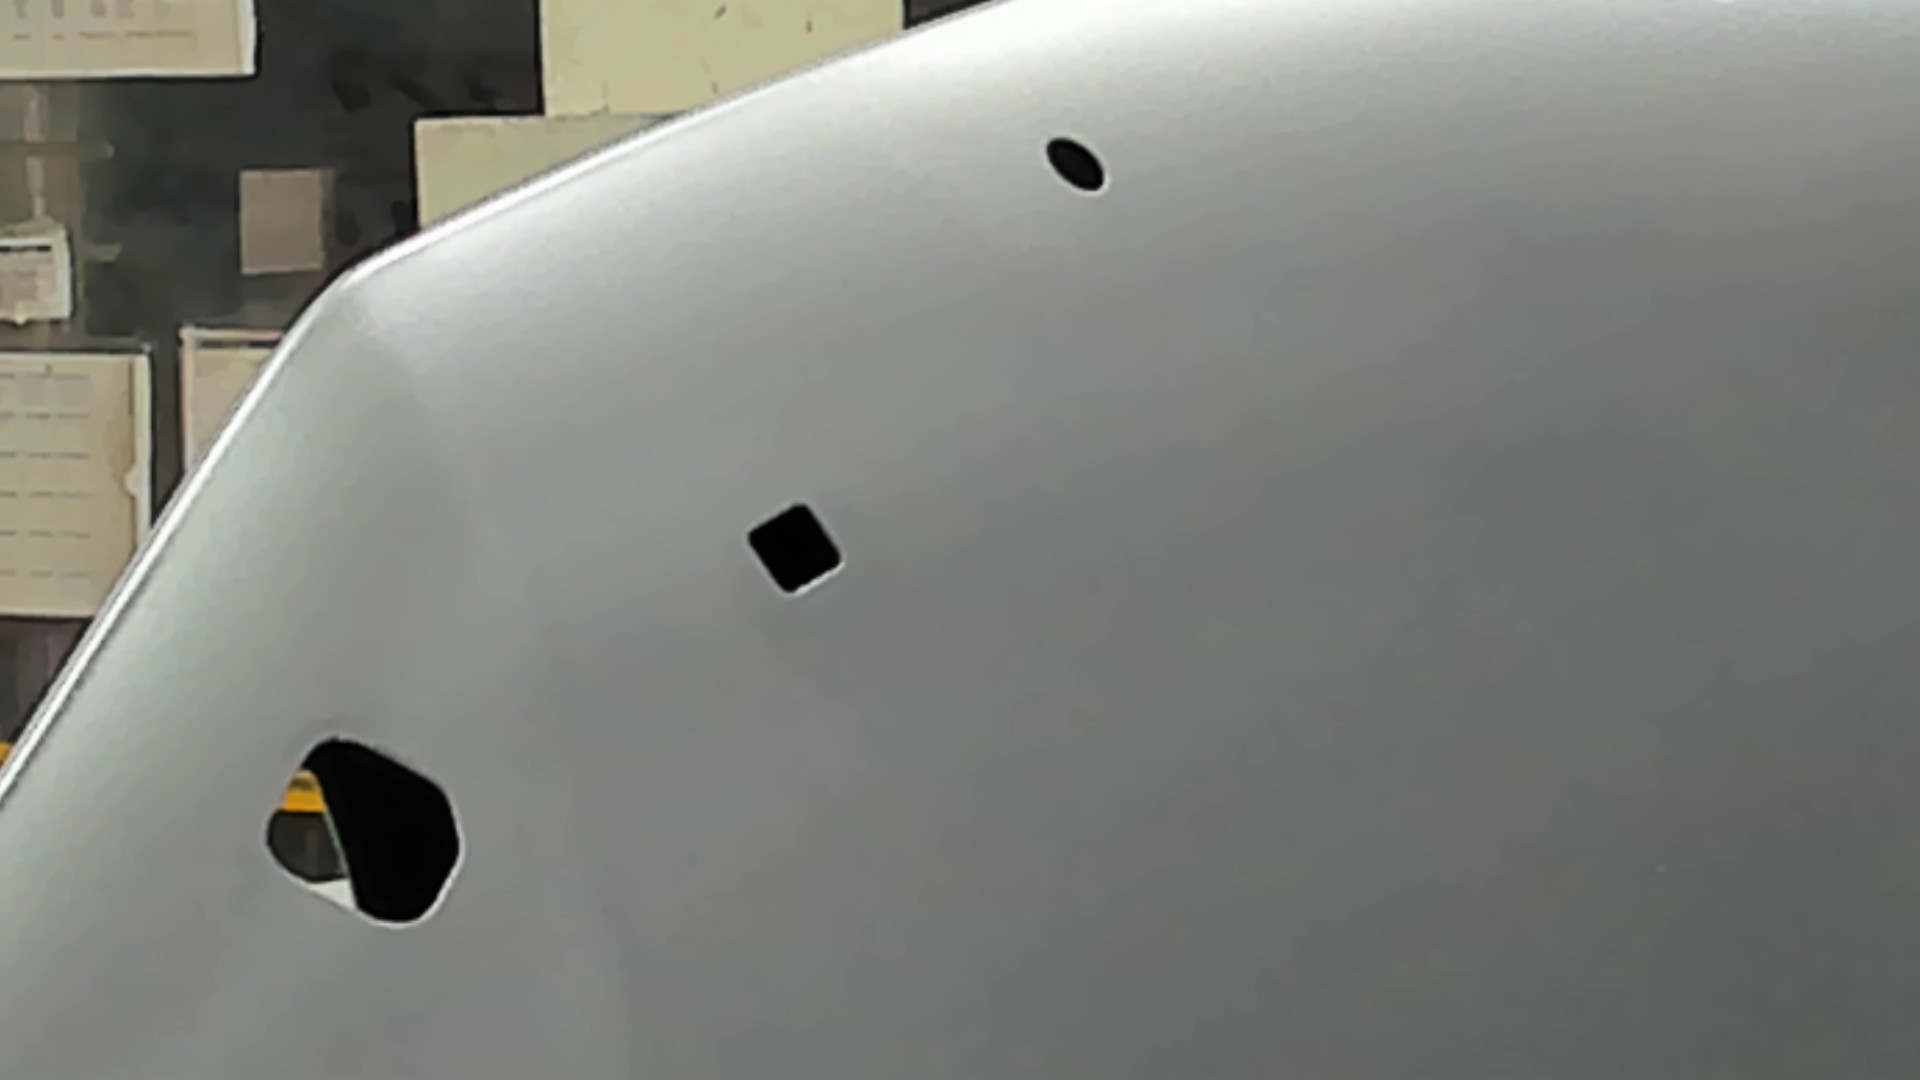chico: (1036, 127, 1114, 200)
grande: (253, 728, 476, 940)
mediano: (741, 496, 851, 601)
